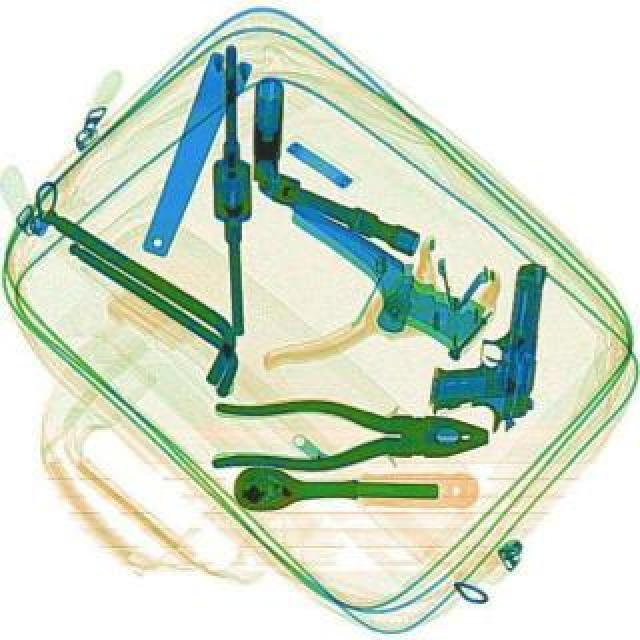gun: (424, 252, 548, 436)
wrench: (210, 396, 486, 472)
